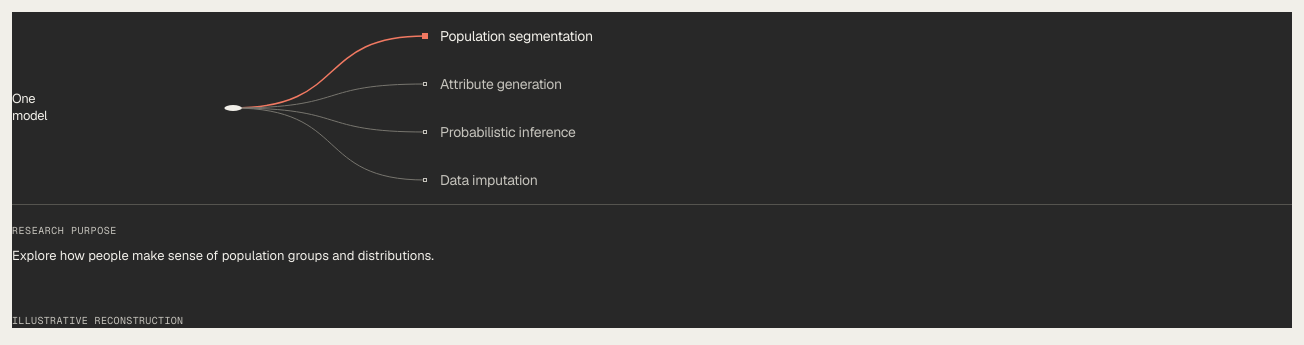
PMF capability exploration by mouse › connects Attribute generation to its public research purpose
Click the button "Data imputation". click: click(489, 180)
box: x1=425 y1=156 x2=1292 y2=204
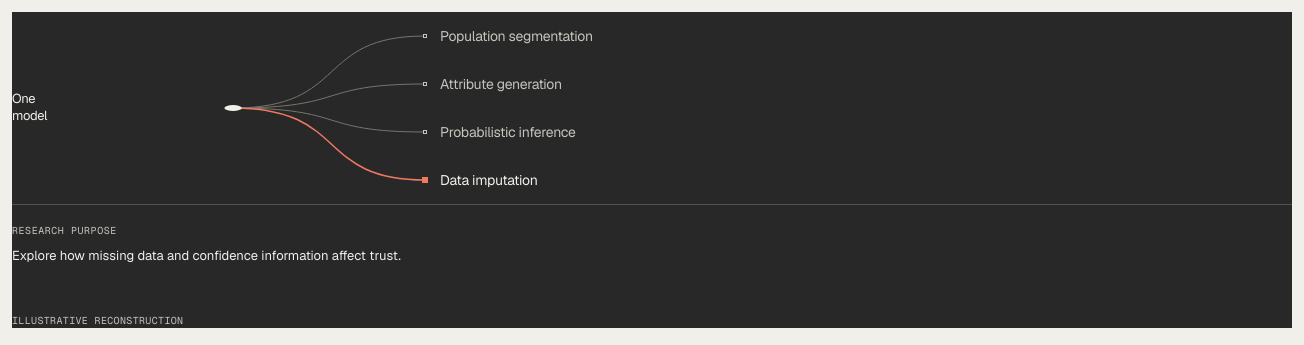
Hover over the button "Attribute generation" at (501, 84), box x1=425 y1=60 x2=1292 y2=108
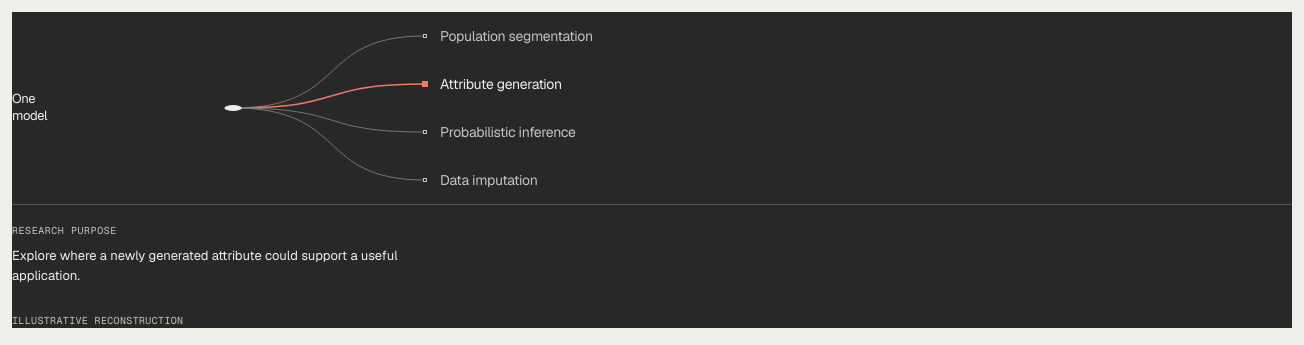
Now the text "a newly generated attribute" is shown, box x1=12 y1=247 x2=398 y2=284
